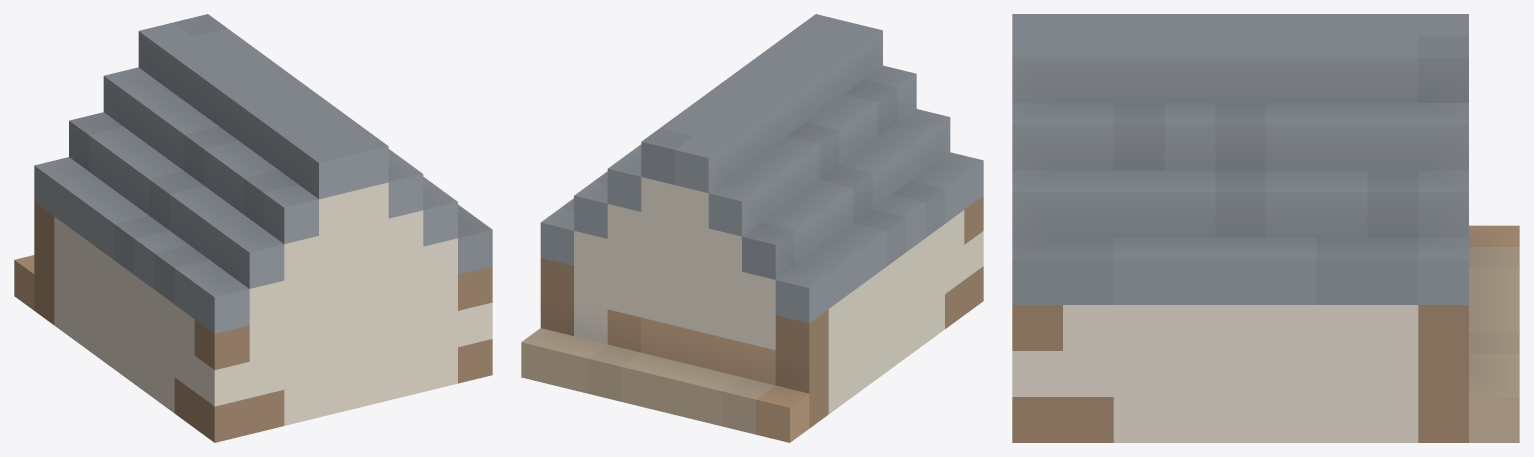
The model's file is cattle_farm.lite.glb.
3 views of the same model, side by side, from view 1: azimuth 30°, elevation 25°; view 2: azimuth 150°, elevation 25°; view 3: azimuth 270°, elevation 25° (orthographic). The views are drawn at different scales.
Parts seen in each view (by area): view 1: cattle_farm; view 2: cattle_farm; view 3: cattle_farm.
Part boxes in pixels (bbox=[...]): cattle_farm: bbox=[14, 14, 492, 442]; cattle_farm: bbox=[521, 14, 983, 442]; cattle_farm: bbox=[1012, 14, 1519, 442].
Bounding box in the file's own units: 4 × 3.5 × 5.
